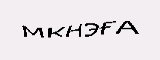А: (115, 20, 140, 36)
К: (47, 26, 65, 39)
М: (21, 24, 44, 39)
Н: (65, 24, 82, 38)
Э: (82, 21, 99, 38)
Ғ: (99, 19, 116, 36)
